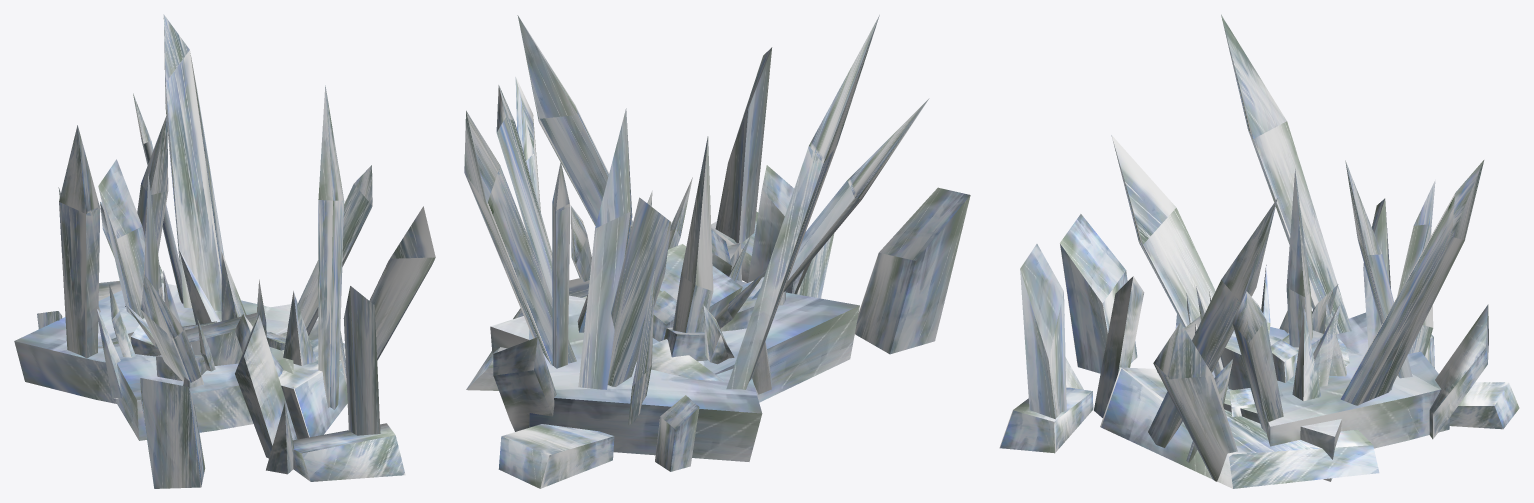
File: pir_m_prp_cav_crystal_quartz_large.fbx
The picture shows the model from 3 angles, left to right: view 1: azimuth 30°, elevation 25°; view 2: azimuth 150°, elevation 25°; view 3: azimuth 270°, elevation 25°; orthographic projection. The views are drawn at different scales.
Parts seen in each view (by area): view 1: pCube107, pCube129, pCube118, pCube82, pCube136, pCube98, pCube133, pCube135, pCube125, pCube134, pCube104, pCube131 (+15 smaller); view 2: pCube129, pCube98, pCube136, pCube118, pCube107, pCube84, pCube134, pCube82, pCube132, pCube135, pCube105, pCube103 (+21 smaller); view 3: pCube131, pCube129, pCube118, pCube107, pCube120, pCube98, pCube135, pCube125, pCube82, pCube92, pCube133, pCube103 (+13 smaller).
Part boxes in pixels (x1=…): pCube107: x1=163, y1=14, x2=224, y2=310; pCube129: x1=14, y1=283, x2=318, y2=403; pCube118: x1=59, y1=125, x2=100, y2=358; pCube82: x1=318, y1=85, x2=344, y2=409; pCube136: x1=114, y1=304, x2=293, y2=440; pCube98: x1=140, y1=378, x2=205, y2=488; pCube133: x1=292, y1=423, x2=405, y2=481; pCube135: x1=343, y1=286, x2=380, y2=435; pCube125: x1=369, y1=206, x2=435, y2=360; pCube134: x1=98, y1=159, x2=145, y2=318; pCube104: x1=235, y1=315, x2=297, y2=458; pCube131: x1=278, y1=339, x2=347, y2=439; pCube129: x1=529, y1=295, x2=762, y2=461; pCube98: x1=855, y1=187, x2=970, y2=354; pCube136: x1=490, y1=280, x2=859, y2=402; pCube118: x1=726, y1=15, x2=879, y2=389; pCube107: x1=464, y1=110, x2=576, y2=365; pCube84: x1=578, y1=108, x2=632, y2=389; pCube134: x1=607, y1=197, x2=671, y2=386; pCube82: x1=517, y1=15, x2=632, y2=236; pCube132: x1=498, y1=424, x2=614, y2=488; pCube135: x1=715, y1=47, x2=772, y2=243; pCube105: x1=672, y1=136, x2=713, y2=332; pCube103: x1=493, y1=337, x2=556, y2=431; pCube131: x1=1100, y1=367, x2=1379, y2=488; pCube129: x1=1266, y1=312, x2=1449, y2=448; pCube118: x1=1221, y1=14, x2=1351, y2=334; pCube107: x1=1340, y1=160, x2=1484, y2=405; pCube120: x1=1111, y1=135, x2=1215, y2=327; pCube98: x1=1060, y1=214, x2=1137, y2=373; pCube135: x1=1020, y1=244, x2=1066, y2=419; pCube125: x1=1153, y1=322, x2=1237, y2=481; pCube82: x1=1148, y1=198, x2=1277, y2=447; pCube92: x1=1232, y1=291, x2=1283, y2=433; pCube133: x1=999, y1=387, x2=1093, y2=453; pCube103: x1=1429, y1=304, x2=1488, y2=439.
Bounding box in the file's own units: 2775 × 2629 × 3694.
Materials: 1 (1 with a texture image).
